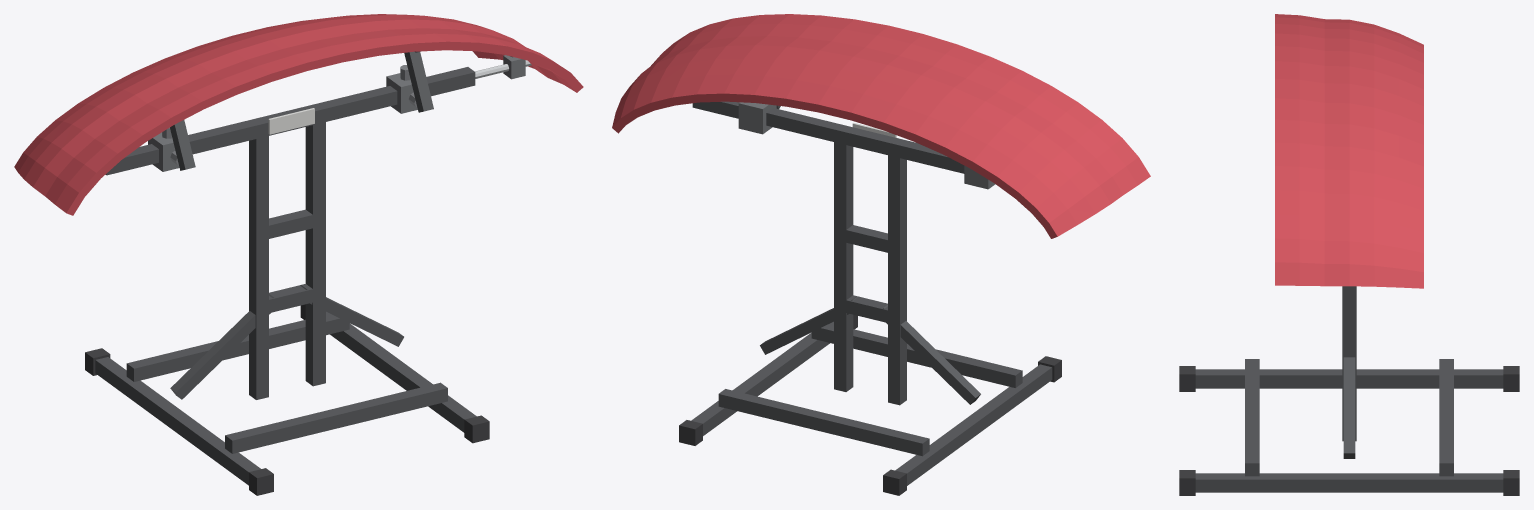
File: jig_bumper2.glb
3 renders of one model, left to right at view 1: azimuth 30°, elevation 25°; view 2: azimuth 150°, elevation 25°; view 3: azimuth 270°, elevation 25°, orthographic. The views are drawn at different scales.
Parts seen in each view (by area): view 1: part_31, part_14, part_9, part_8, part_7, part_0, part_6, part_3, part_12, part_13, part_24, part_11 (+6 smaller); view 2: part_31, part_9, part_8, part_14, part_6, part_0, part_7, part_3, part_12, part_13, part_21, part_10 (+1 smaller); view 3: part_31, part_3, part_0, part_6, part_7, part_9, part_13, part_1, part_2, part_4, part_5.
Part boxes in pixels (x1=…): part_31: x1=14, y1=14, x2=583, y2=215; part_14: x1=105, y1=67, x2=475, y2=175; part_9: x1=305, y1=122, x2=325, y2=386; part_8: x1=249, y1=136, x2=268, y2=399; part_7: x1=225, y1=382, x2=447, y2=453; part_0: x1=95, y1=357, x2=260, y2=485; part_6: x1=126, y1=313, x2=349, y2=381; part_3: x1=326, y1=311, x2=476, y2=432; part_12: x1=170, y1=294, x2=273, y2=399; part_13: x1=300, y1=285, x2=403, y2=346; part_24: x1=404, y1=51, x2=433, y2=112; part_11: x1=267, y1=209, x2=319, y2=239; part_31: x1=612, y1=14, x2=1150, y2=238; part_9: x1=834, y1=142, x2=853, y2=391; part_8: x1=888, y1=155, x2=906, y2=405; part_14: x1=692, y1=101, x2=964, y2=173; part_6: x1=718, y1=389, x2=929, y2=456; part_0: x1=895, y1=364, x2=1052, y2=485; part_7: x1=811, y1=323, x2=1022, y2=387; part_3: x1=691, y1=321, x2=833, y2=435; part_12: x1=883, y1=305, x2=980, y2=404; part_13: x1=760, y1=296, x2=857, y2=354; part_21: x1=738, y1=102, x2=776, y2=134; part_10: x1=840, y1=295, x2=887, y2=322; part_31: x1=1275, y1=14, x2=1423, y2=288; part_3: x1=1195, y1=473, x2=1503, y2=492; part_0: x1=1195, y1=369, x2=1503, y2=388; part_6: x1=1439, y1=359, x2=1453, y2=476; part_7: x1=1245, y1=359, x2=1259, y2=476; part_9: x1=1342, y1=286, x2=1356, y2=441; part_13: x1=1343, y1=357, x2=1355, y2=458; part_1: x1=1503, y1=366, x2=1519, y2=391; part_2: x1=1179, y1=366, x2=1195, y2=391; part_4: x1=1503, y1=470, x2=1519, y2=495; part_5: x1=1179, y1=470, x2=1195, y2=495.
Size of the model in its own units: 1.82 by 1.26 by 1.05.
